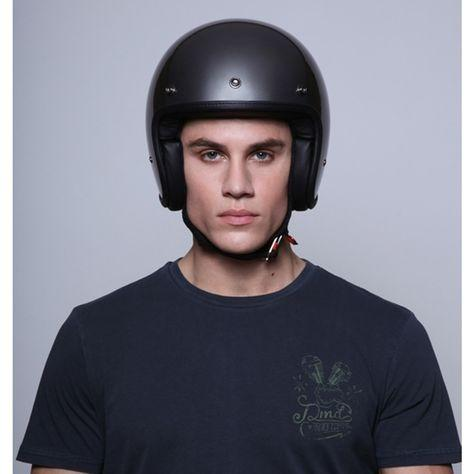helmet: (146, 18, 331, 256)
